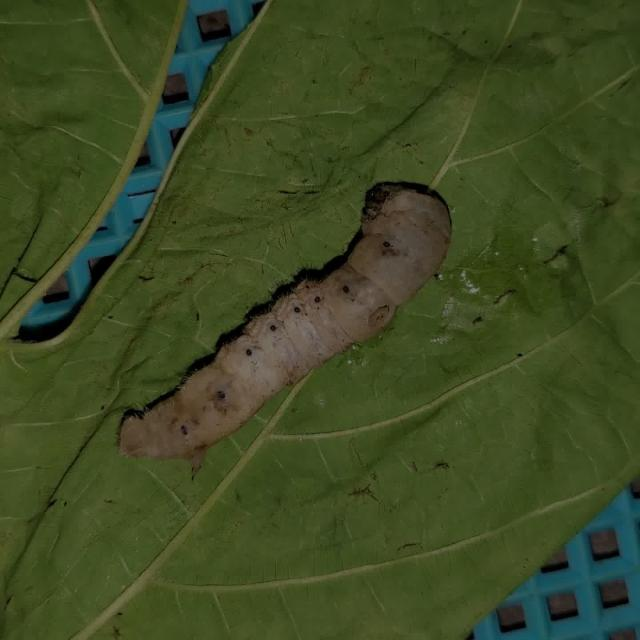Grasserie: (109, 162, 455, 474)
